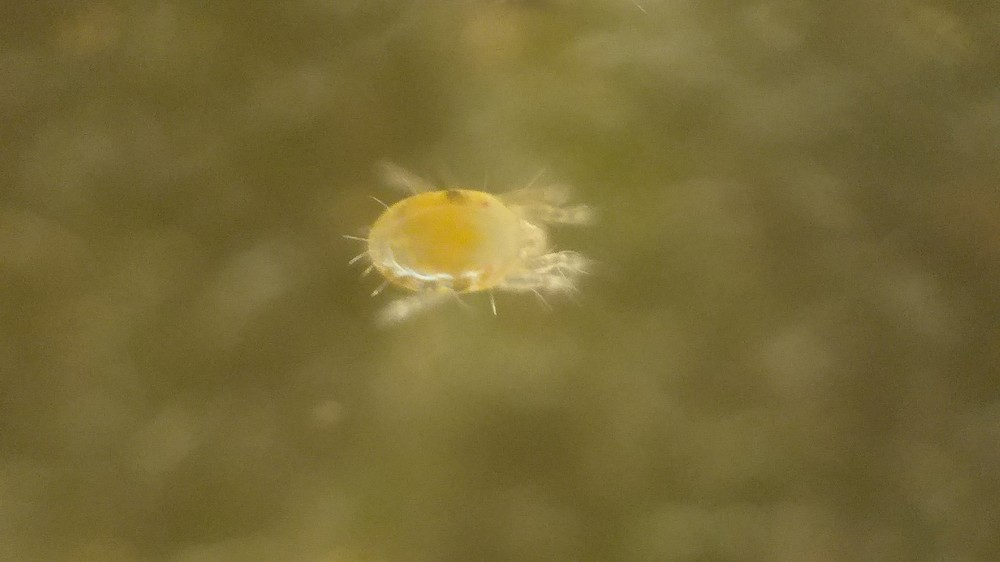Aracnido Rojo: (338, 144, 617, 333)
